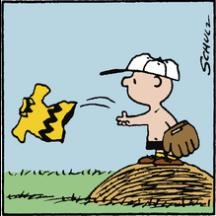charlie: (115, 53, 199, 167)
